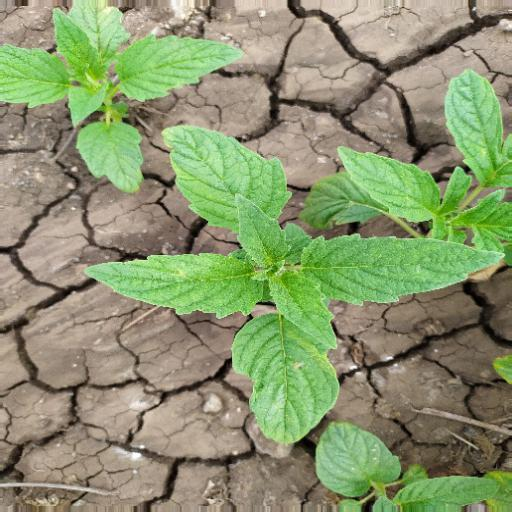crop: (86, 122, 491, 448), (4, 4, 238, 198), (319, 73, 512, 270)
